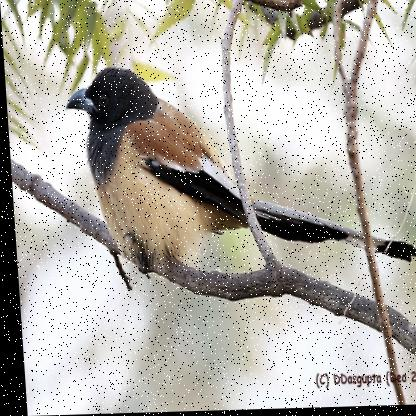Burung: (61, 62, 413, 274)
